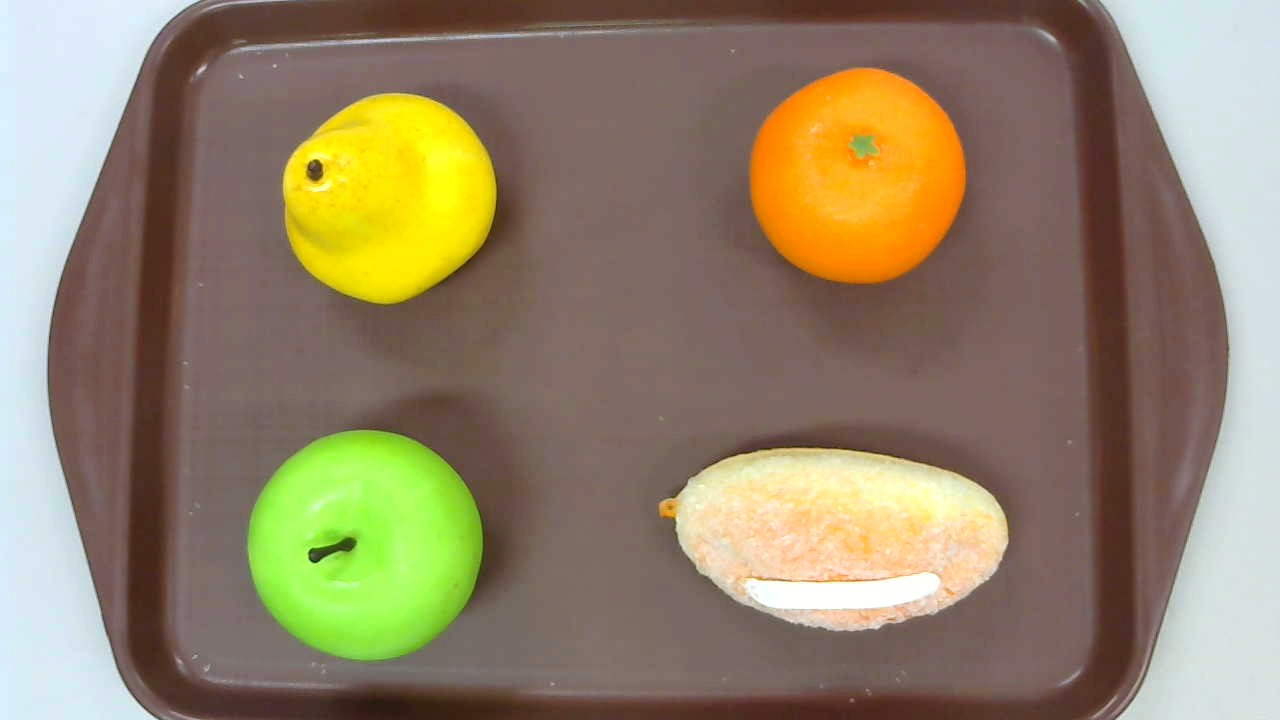coconut: (657, 447, 1008, 631)
green apple: (246, 427, 483, 660)
orange: (749, 68, 966, 284)
yellow pear: (283, 92, 497, 307)
